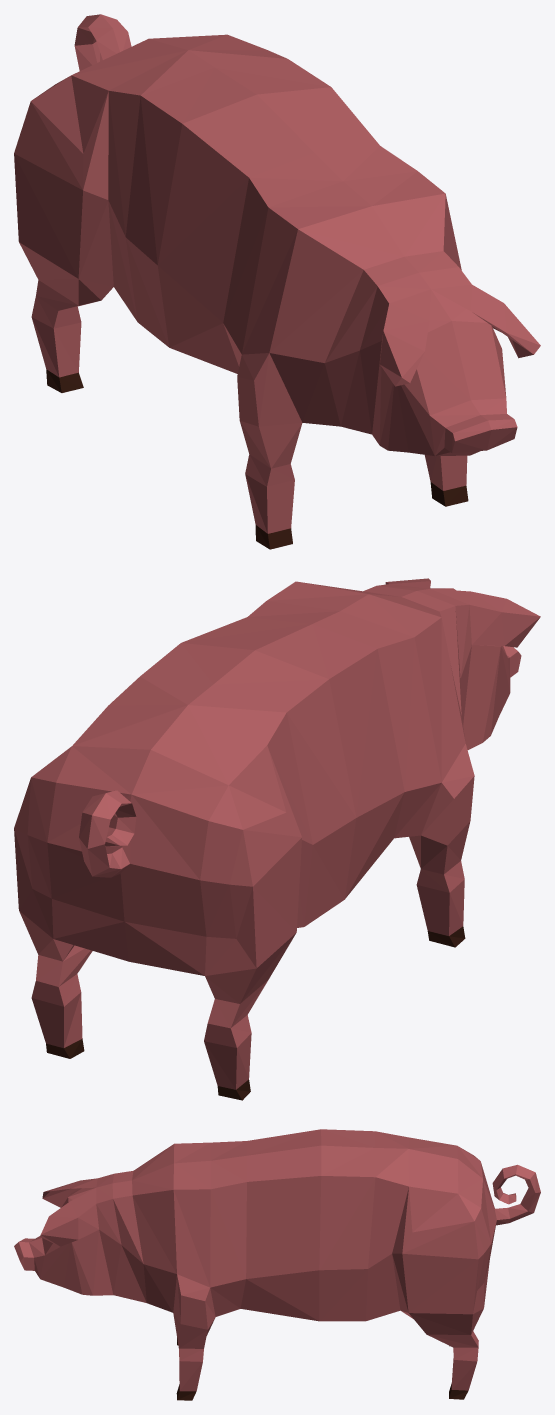
File: FarmPig.glb
The picture shows the model from 3 angles, top to bottom: view 1: azimuth 30°, elevation 25°; view 2: azimuth 150°, elevation 25°; view 3: azimuth 270°, elevation 25°; orthographic projection. The views are drawn at different scales.
Bounding box in the file's own units: 0.3178 × 0.4402 × 0.94.
